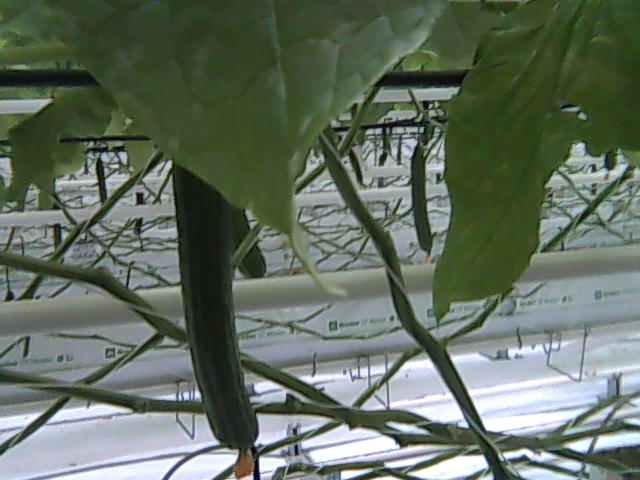concombre: (170, 158, 264, 480)
